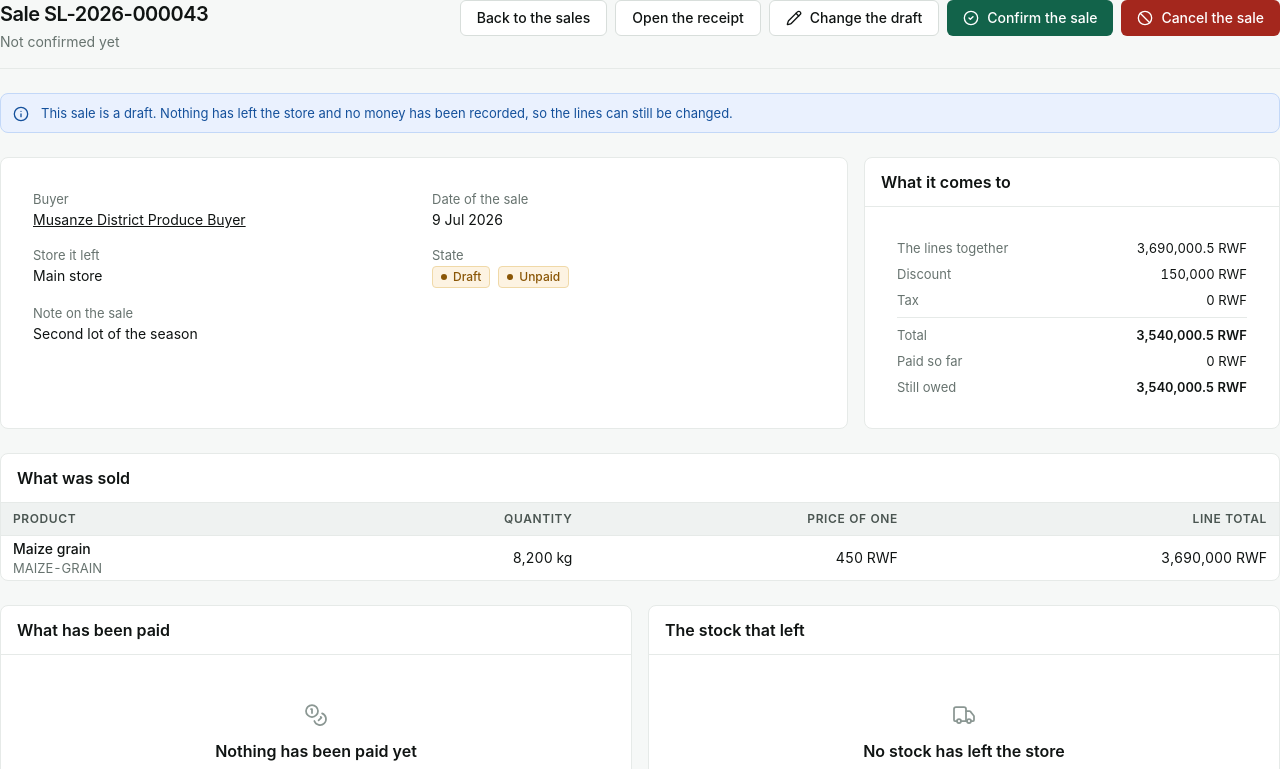
Test: confirming › sends the payment fields together
Click the button "Confirm the sale" at {"x": 1030, "y": 18}, box [947, 0, 1113, 36]
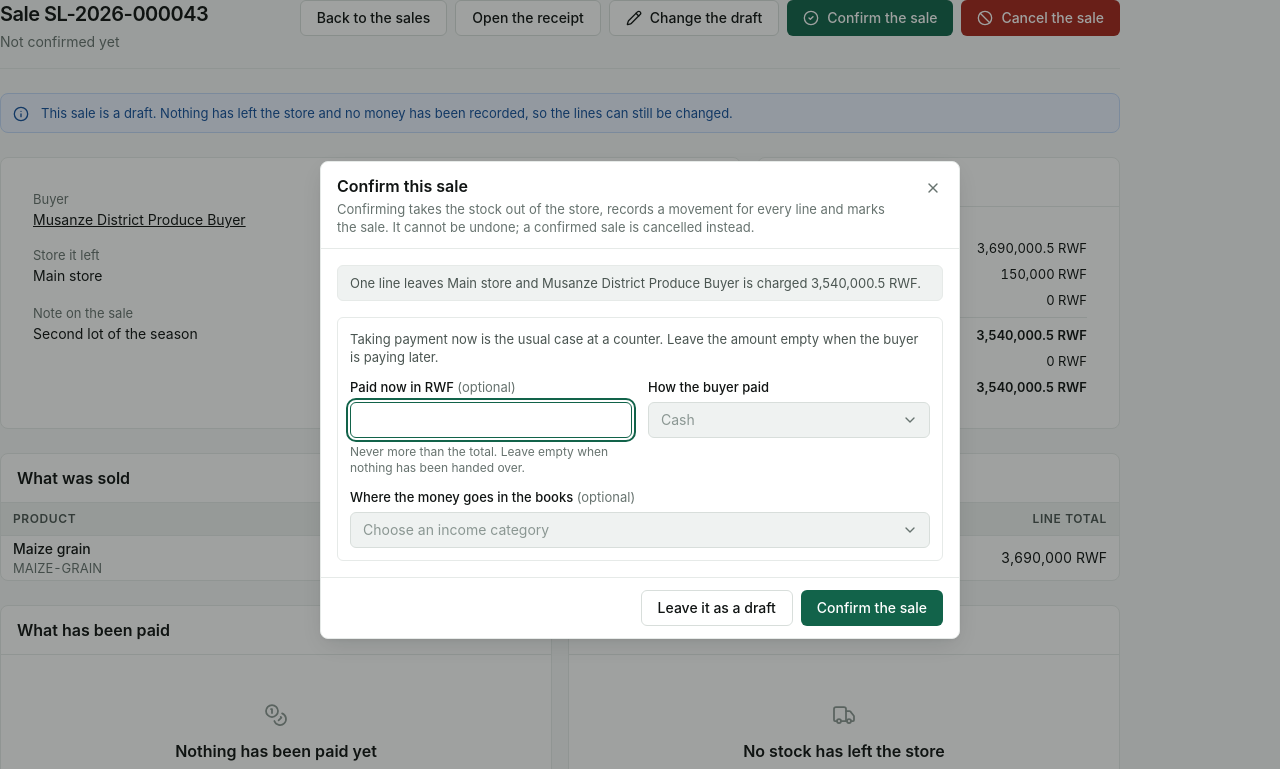
expect the dialog is shown: met, box [320, 161, 960, 639]
Type "2500000" into the field labelled "Paid now in RWF (optional)" at {"x": 491, "y": 420}, box [350, 402, 632, 438]
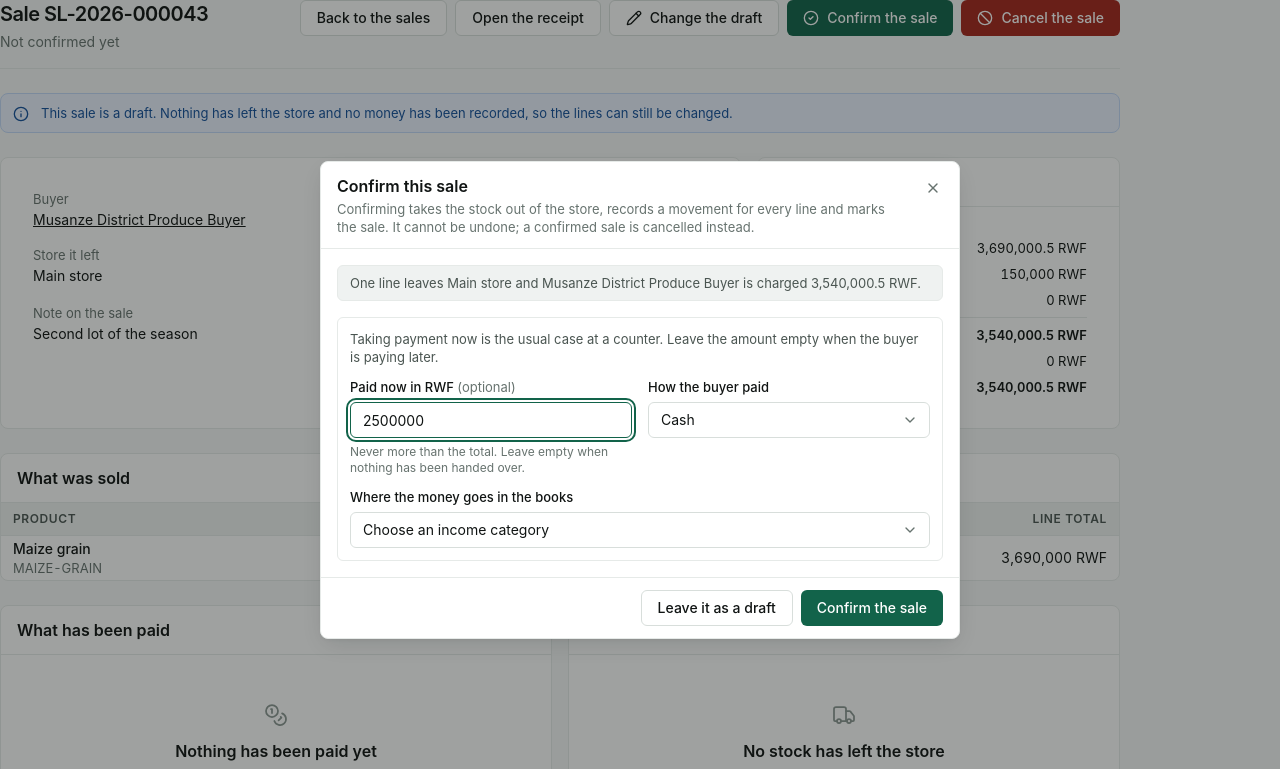
Select "Sale of produce" in the dropdown labelled "Where the money goes in the books" at {"x": 640, "y": 530}, box [350, 512, 930, 548]
Submit the form with id "confirm-sale-form", box [337, 265, 943, 561]
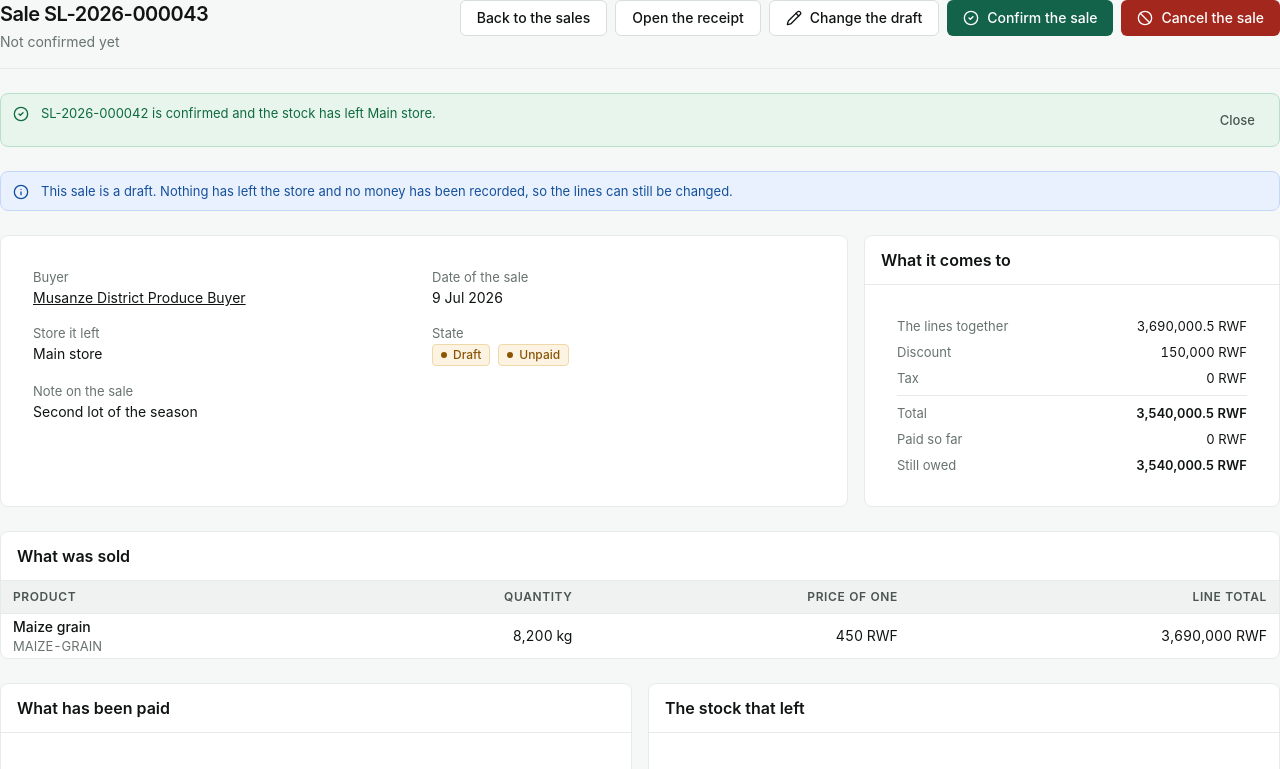
expect the dialog is gone: met
